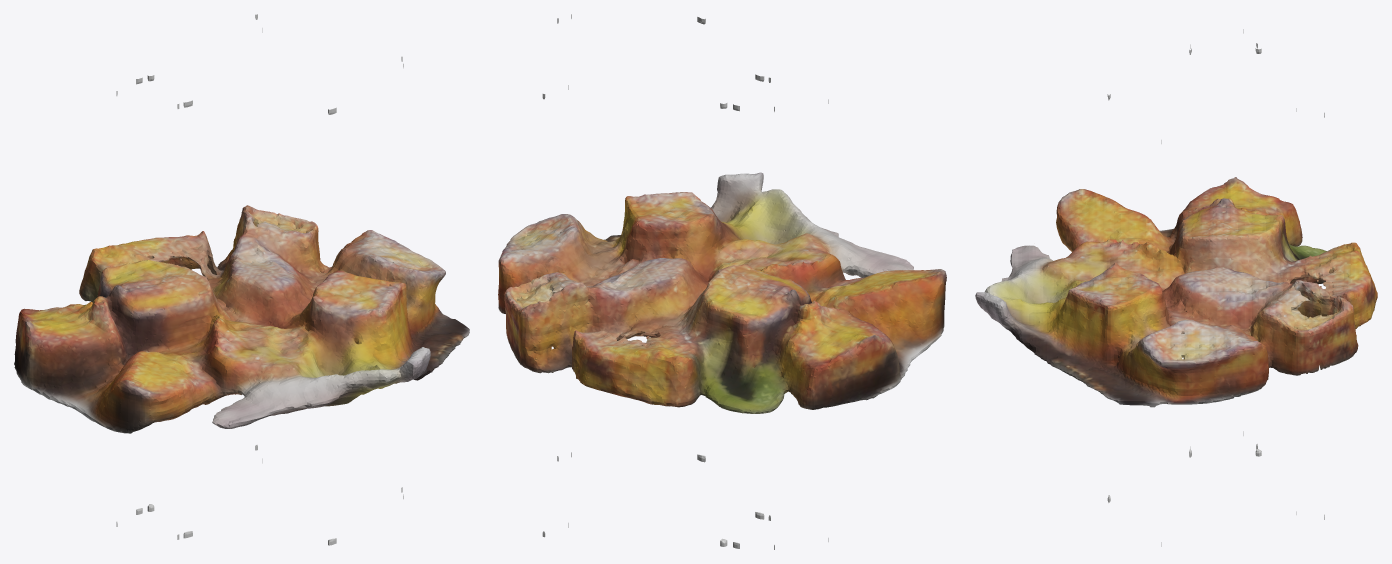
File: paneer tikka 3d.glb
3 renders of one model, left to right at view 1: azimuth 30°, elevation 25°; view 2: azimuth 150°, elevation 25°; view 3: azimuth 270°, elevation 25°, orthographic. The views are drawn at different scales.
Parts seen in each view (by area): view 1: world; view 2: world; view 3: world.
Boxes of the visible parts, <box> form: world: <box>14,14,469,545</box>; world: <box>498,14,946,549</box>; world: <box>975,29,1377,546</box>.
Bounding box in the file's own units: 1.96 × 2.08 × 1.87.
